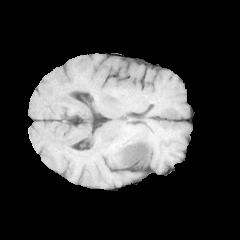glioma: (111, 136, 153, 169)
